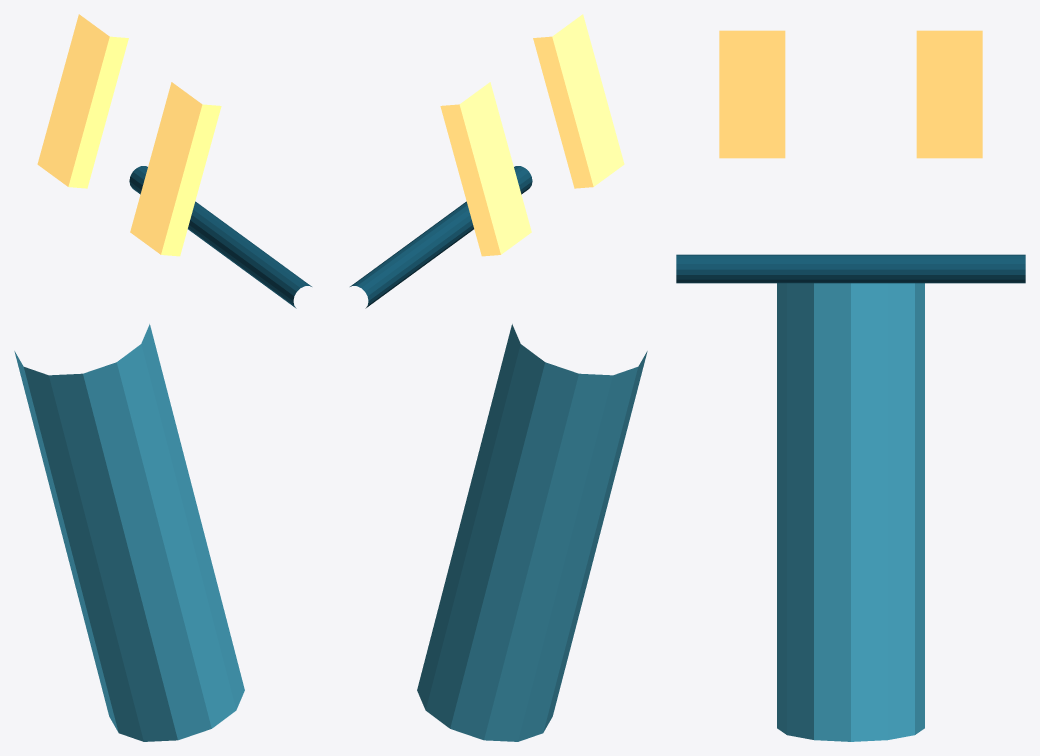
File: naga-siren.glb
3 renders of one model, left to right at view 1: azimuth 30°, elevation 25°; view 2: azimuth 150°, elevation 25°; view 3: azimuth 270°, elevation 25°, orthographic. The views are drawn at different scales.
Parts seen in each view (by area): view 1: naga-siren-serpent-tail, naga-siren-head-fin-r, naga-siren-head-fin-l, naga-siren-song-ring; view 2: naga-siren-serpent-tail, naga-siren-head-fin-l, naga-siren-head-fin-r, naga-siren-song-ring; view 3: naga-siren-serpent-tail, naga-siren-song-ring, naga-siren-head-fin-l, naga-siren-head-fin-r.
Boxes of the visible parts, box(x1,y1,x2,y2) form: naga-siren-serpent-tail: box(14, 324, 244, 741); naga-siren-head-fin-r: box(37, 14, 128, 188); naga-siren-head-fin-l: box(130, 82, 221, 256); naga-siren-song-ring: box(129, 166, 311, 308); naga-siren-serpent-tail: box(417, 324, 647, 741); naga-siren-head-fin-l: box(533, 14, 624, 188); naga-siren-head-fin-r: box(440, 82, 531, 256); naga-siren-song-ring: box(350, 166, 532, 308); naga-siren-serpent-tail: box(777, 283, 924, 741); naga-siren-song-ring: box(676, 254, 1025, 283); naga-siren-head-fin-l: box(719, 30, 785, 158); naga-siren-head-fin-r: box(916, 30, 982, 158).
Size of the model in its own units: 0.6333 by 1.91 by 0.85.
